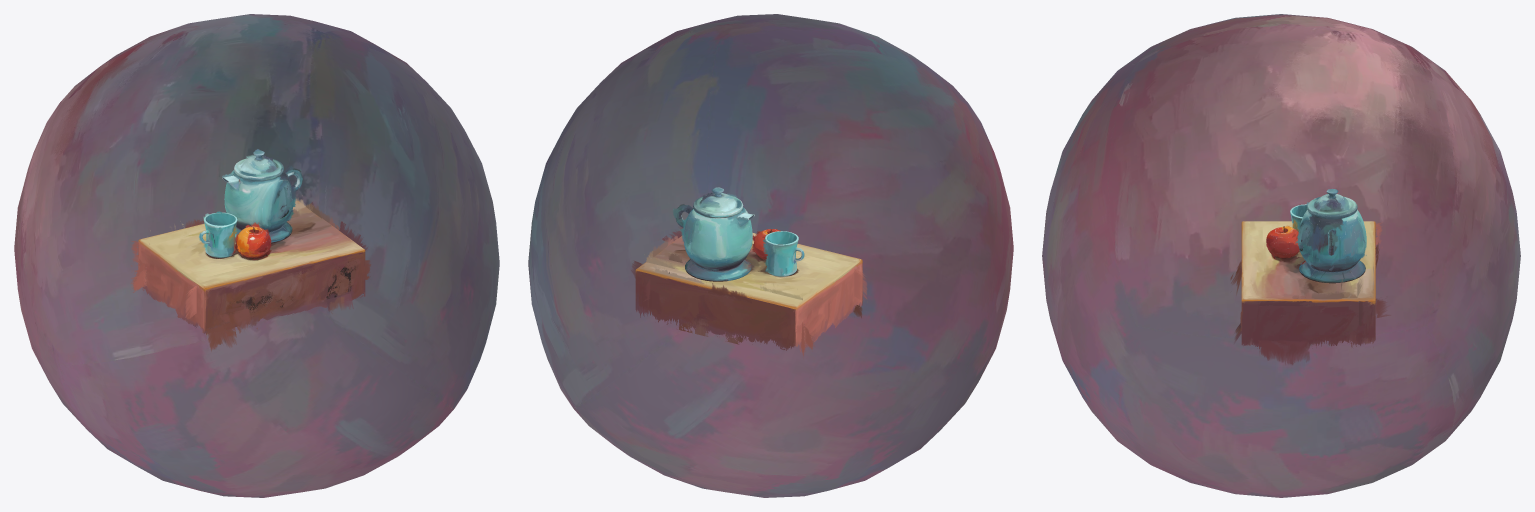
Rendered from fiesta_tea-transformed.glb.
3 views of the same model, side by side, from view 1: azimuth 30°, elevation 25°; view 2: azimuth 150°, elevation 25°; view 3: azimuth 270°, elevation 25° (orthographic).
Visible parts, largest first — view 1: Object_28, Object_30, Object_14, Object_26; view 2: Object_28, Object_30, Object_14, Object_26; view 3: Object_28, Object_30, Object_14, Object_26.
Part boxes in pixels (x1=…): Object_28: x1=14, y1=14, x2=499, y2=497; Object_30: x1=138, y1=201, x2=365, y2=334; Object_14: x1=200, y1=150, x2=302, y2=258; Object_26: x1=130, y1=149, x2=371, y2=351; Object_28: x1=528, y1=14, x2=1013, y2=497; Object_30: x1=635, y1=229, x2=862, y2=352; Object_14: x1=675, y1=187, x2=804, y2=281; Object_26: x1=631, y1=190, x2=867, y2=358; Object_28: x1=1042, y1=14, x2=1520, y2=497; Object_30: x1=1241, y1=221, x2=1375, y2=348; Object_14: x1=1266, y1=188, x2=1366, y2=283; Object_26: x1=1230, y1=190, x2=1390, y2=365.
Size of the model in its own units: 11.73 by 11.73 by 11.73.
4 materials, 4 textured.
